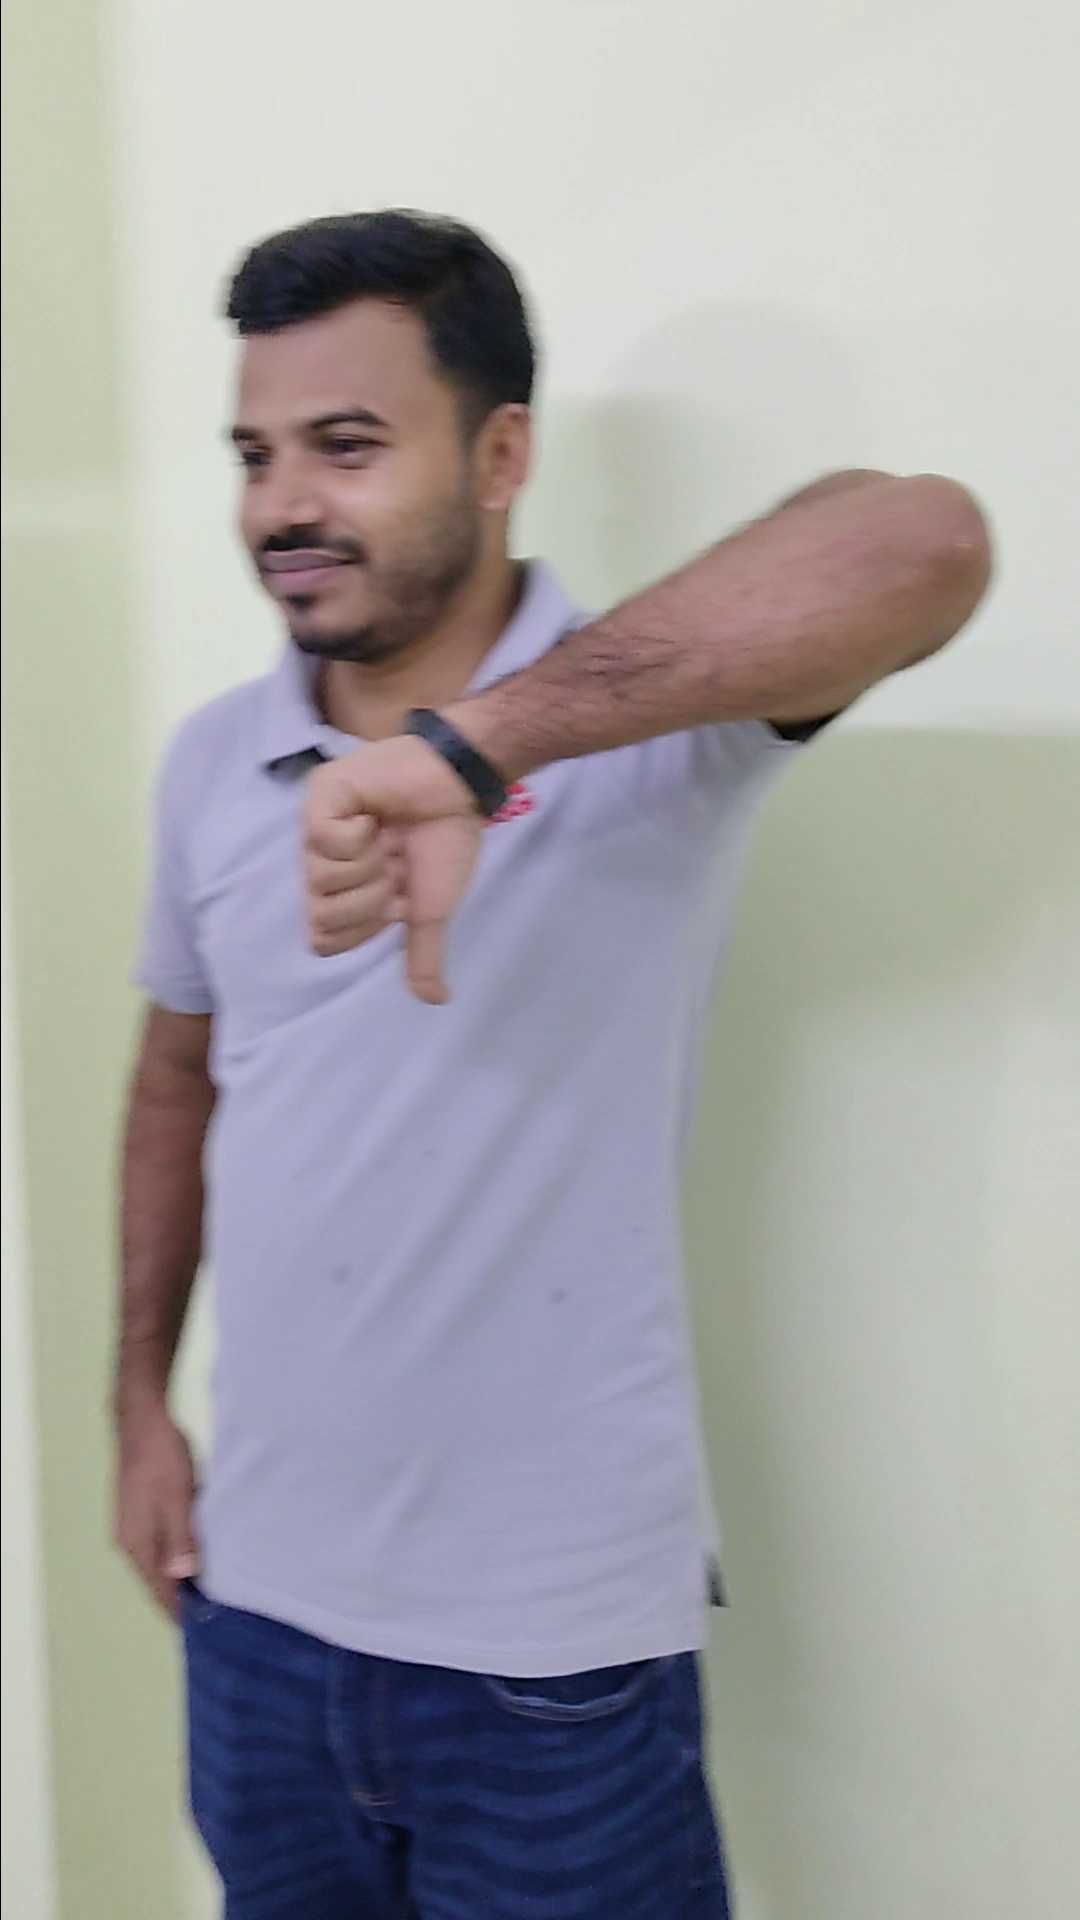Dislike: (280, 705, 510, 1030)
None: (94, 1364, 241, 1658)
